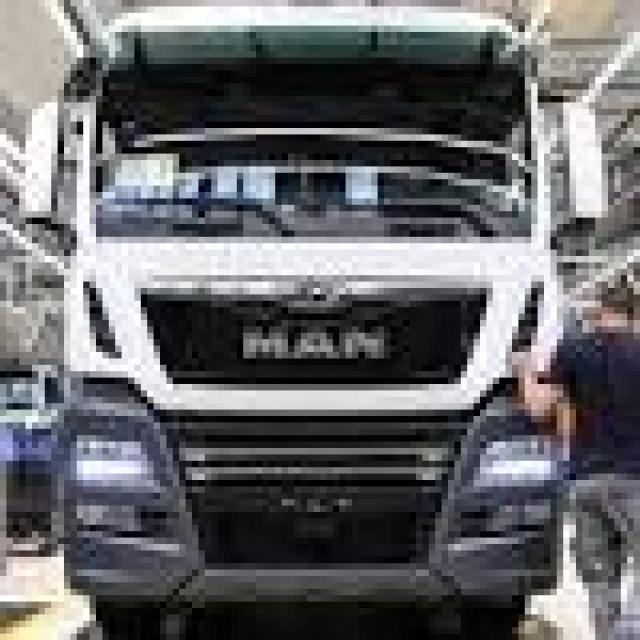Heavy Duty Truck: (7, 6, 614, 621)
